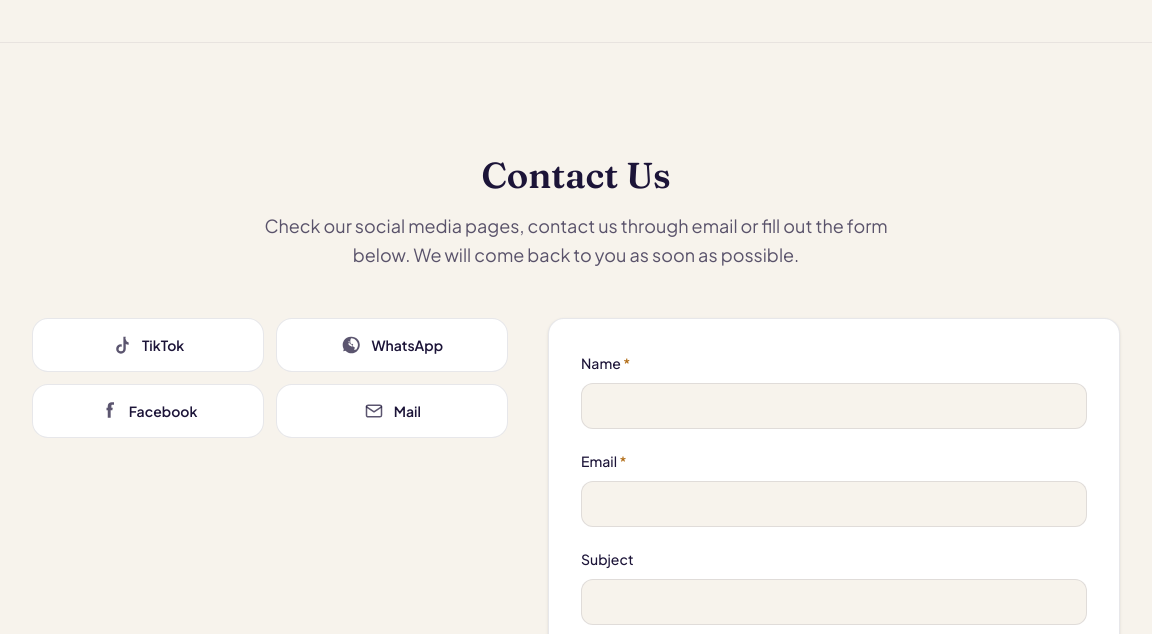
it: ContactPage security › does not render submitted form values as HTML
The width and height of the screenshot is (1152, 634).
(page scrolled)
Type "<script>alert(1)</script>" into the field labelled "Name *". click: (834, 406)
box: [581,383,1087,429]
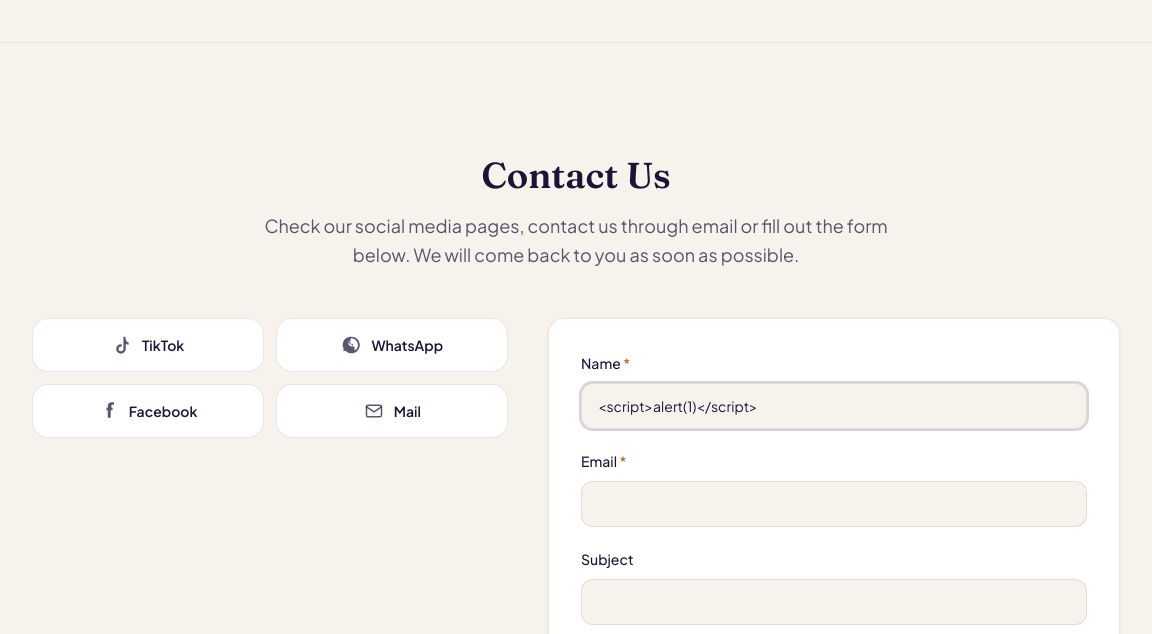
Type "test@example.com" into the field labelled "Email *". click: (834, 504)
box: [581,481,1087,527]
(page scrolled)
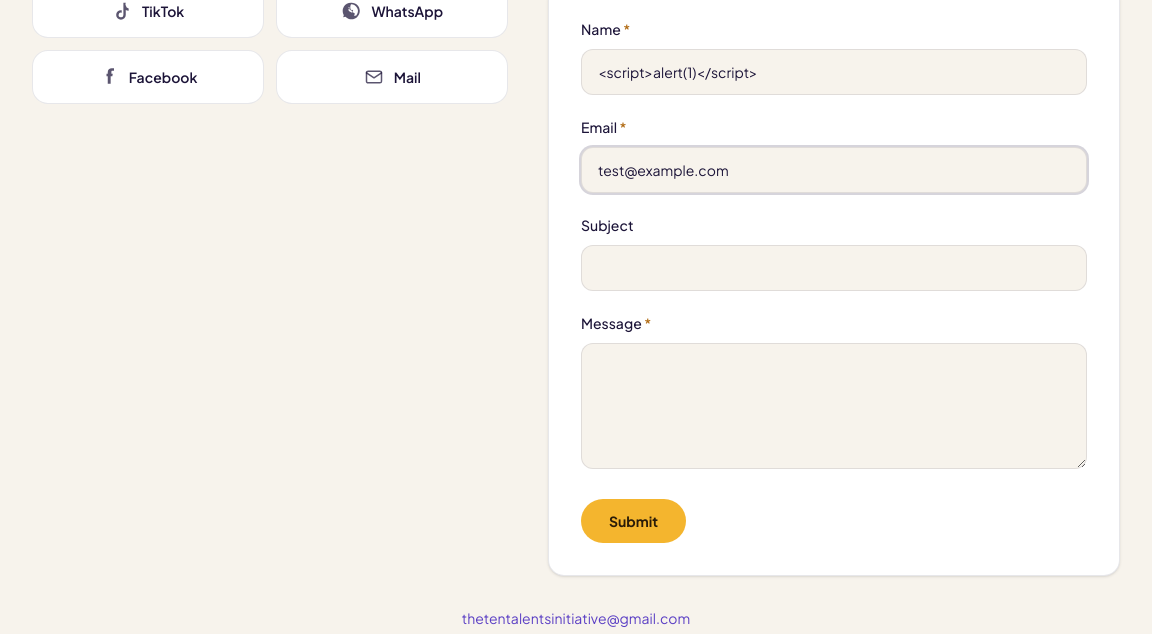
Type "Hello" into the text box labelled "Message *". click: (834, 406)
box: [581,343,1087,469]
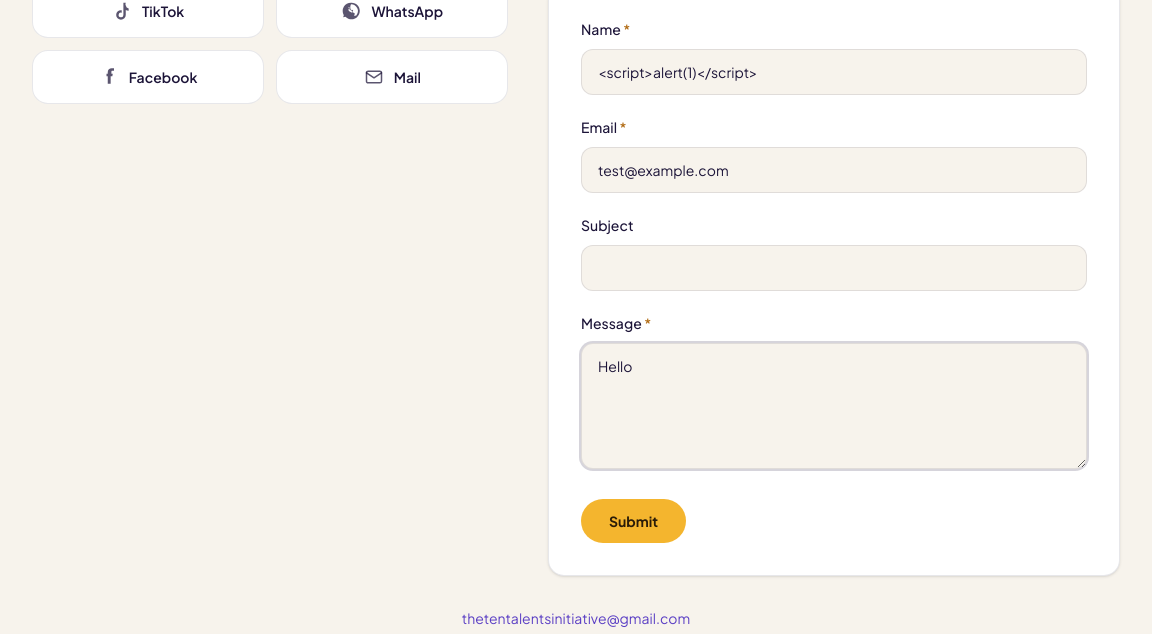
Click the button "Submit". click: (634, 521)
box: [581,499,686,543]
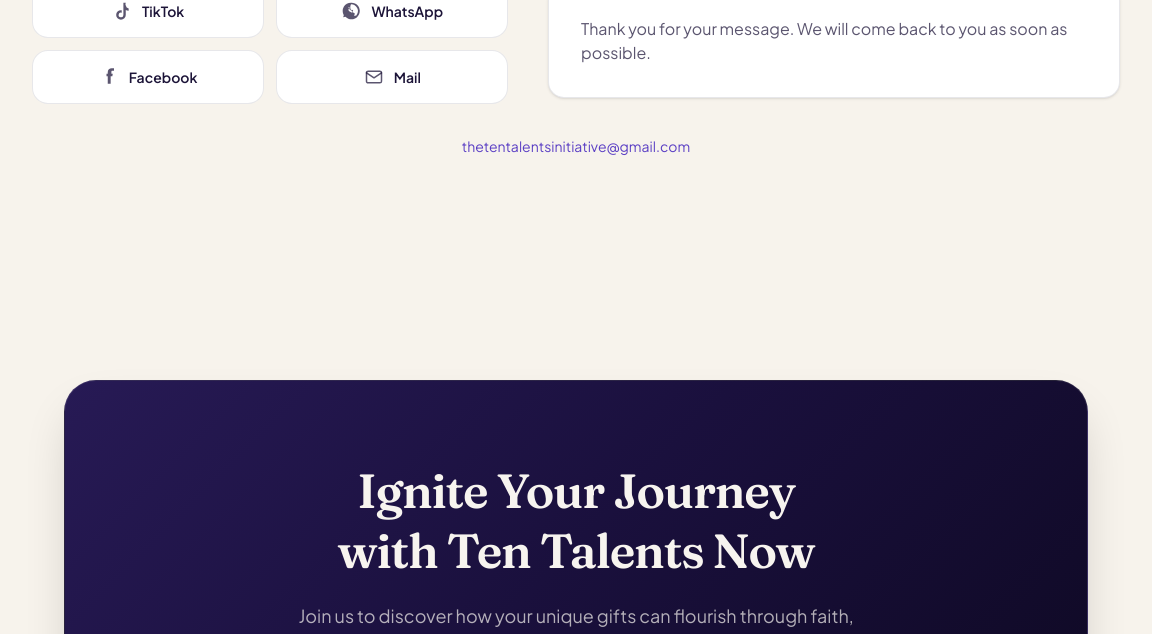
Expected: the text "<script>alert(1)</script>" is not shown
Now the text "Thank you for your message. We will come back to you as soon as possible." is shown, box [581,17,1087,65]
